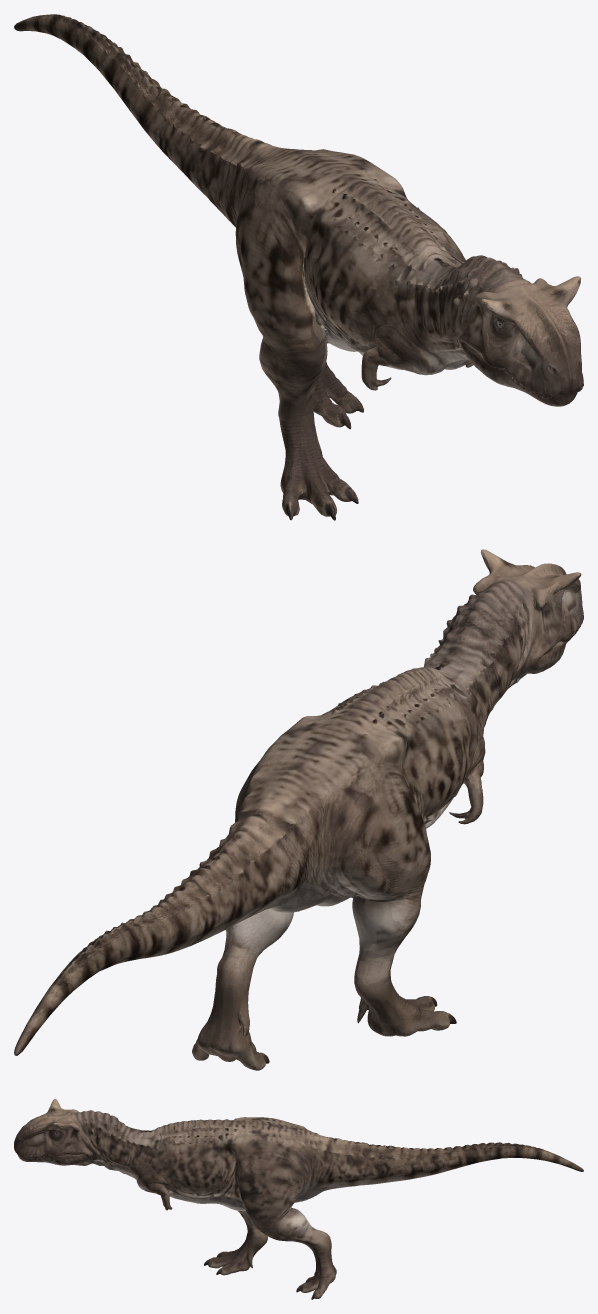
The model's file is majunga.glb.
The picture shows the model from 3 angles, top to bottom: view 1: azimuth 30°, elevation 25°; view 2: azimuth 150°, elevation 25°; view 3: azimuth 270°, elevation 25°; orthographic projection. The views are drawn at different scales.
Bounding box in the file's own units: 0.33 × 0.6215 × 1.9.
1 material, 1 textured.
